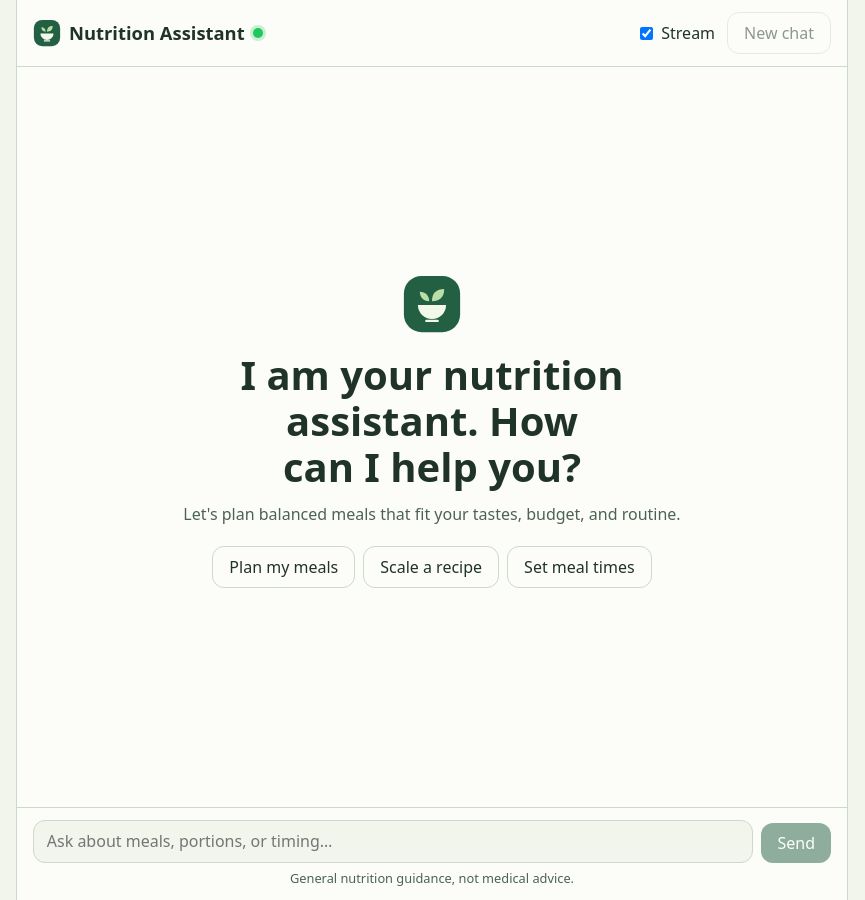
chat › regenerates an earlier reply without submitting or modifying later turns
This screenshot has width=865, height=900.
Type "Q1" into the text box named "Message" at (393, 841), box [33,820,754,863]
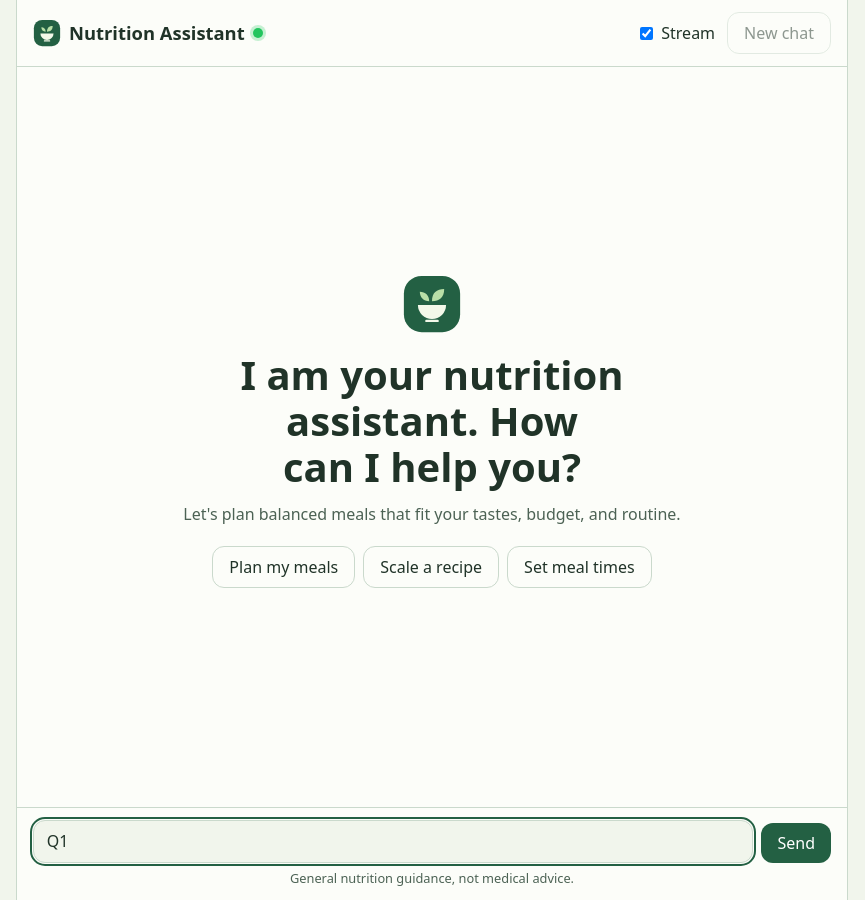
Press Enter
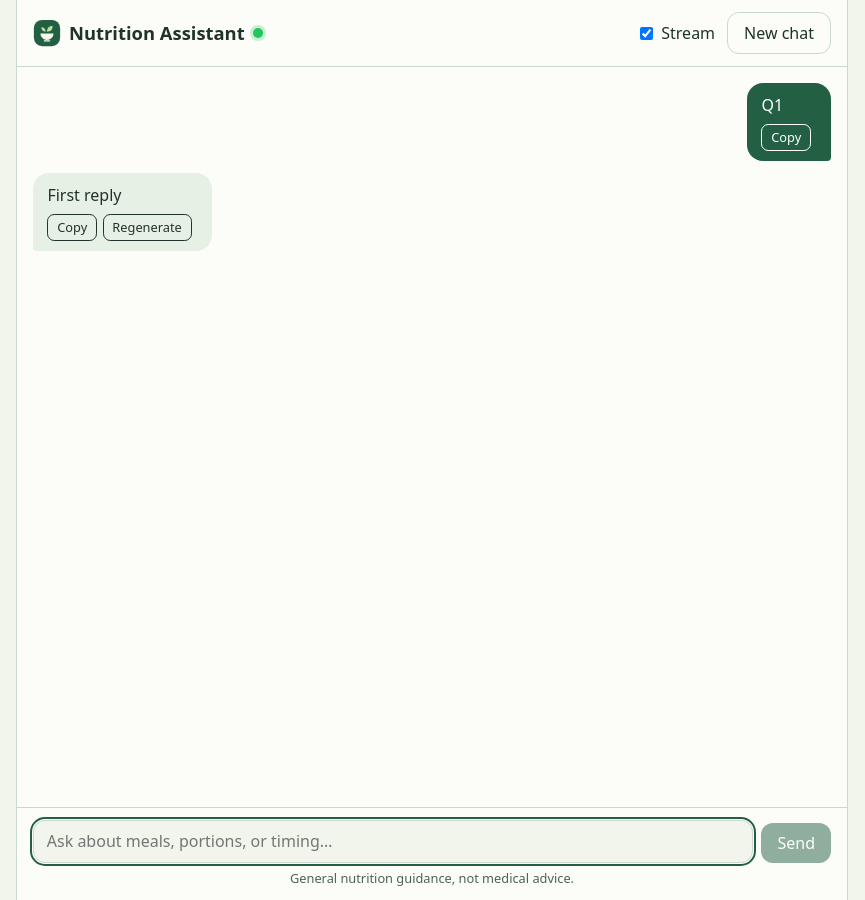
Check: the text "First reply" is shown, box [47,184,122,206]
Type "Q2" into the text box named "Message" at (393, 841), box [33,820,754,863]
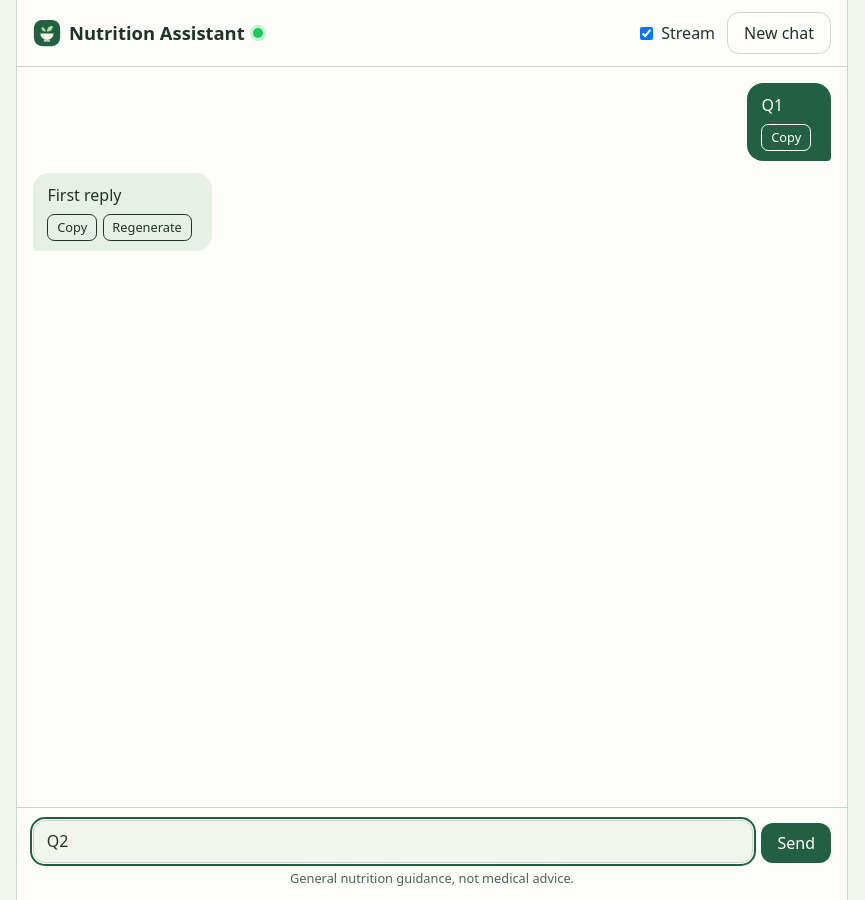
Press Enter
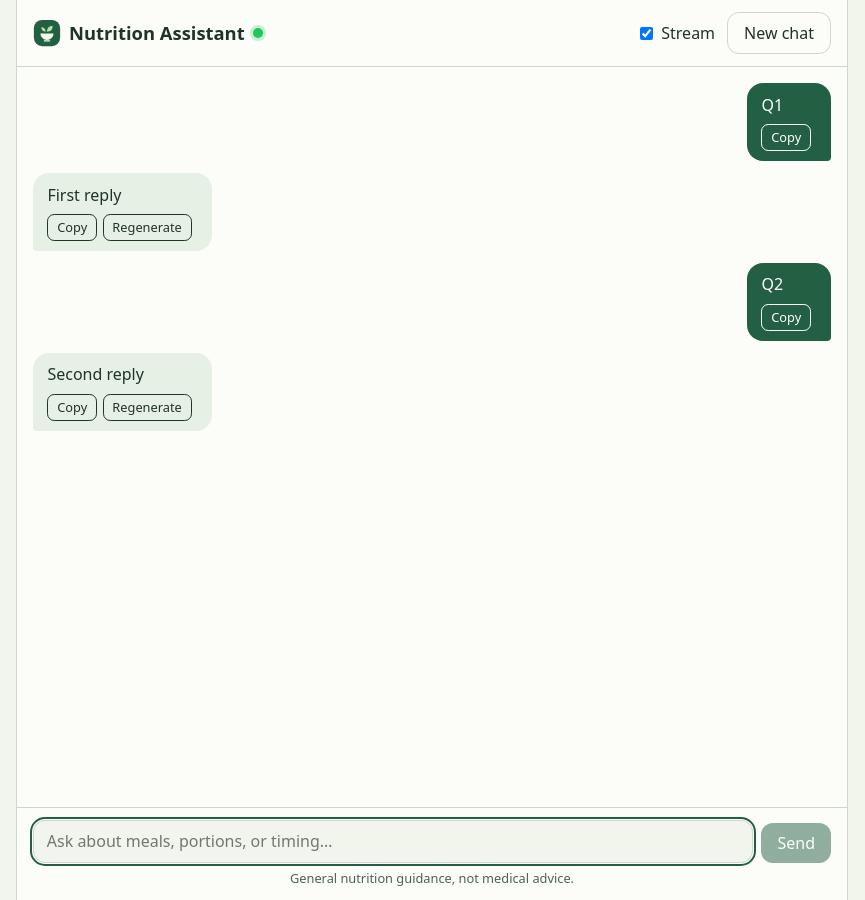
Check: the text "Second reply" is shown, box [47,363,144,385]
Click the button with aria-label "Regenerate reply 2" at (147, 228), box [103,214,192,241]
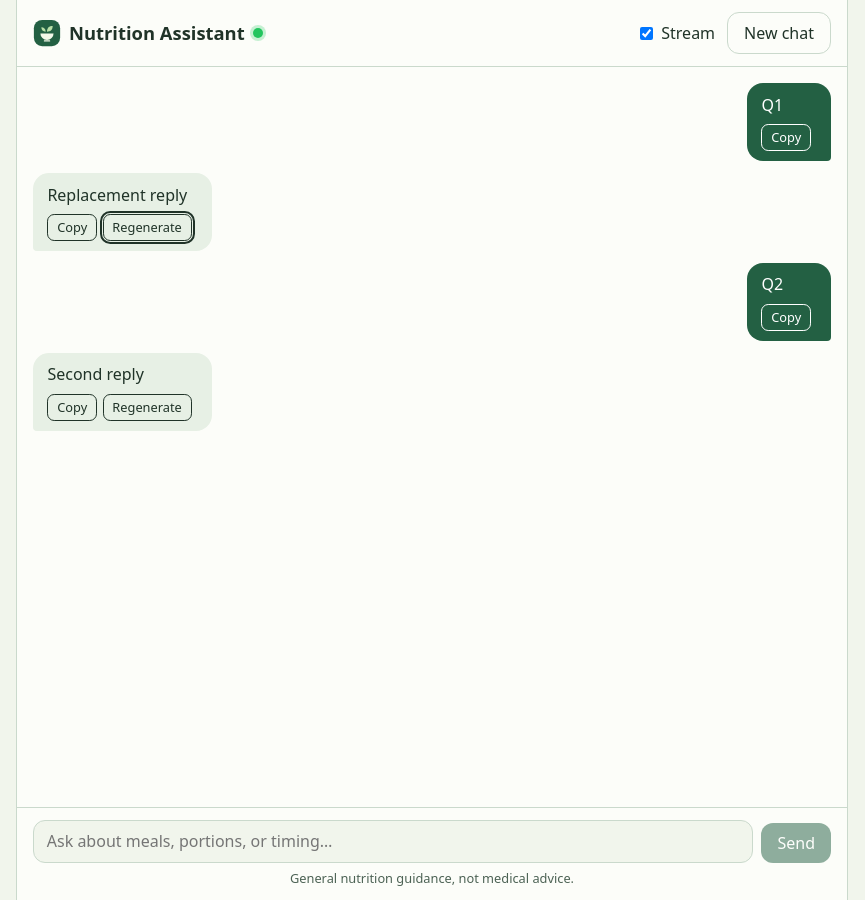
Check: the text "Second reply" is shown, box [47,363,144,385]
Check: the text "Replacement reply" is shown, box [47,182,197,206]
Check: the text "First reply" is gone
